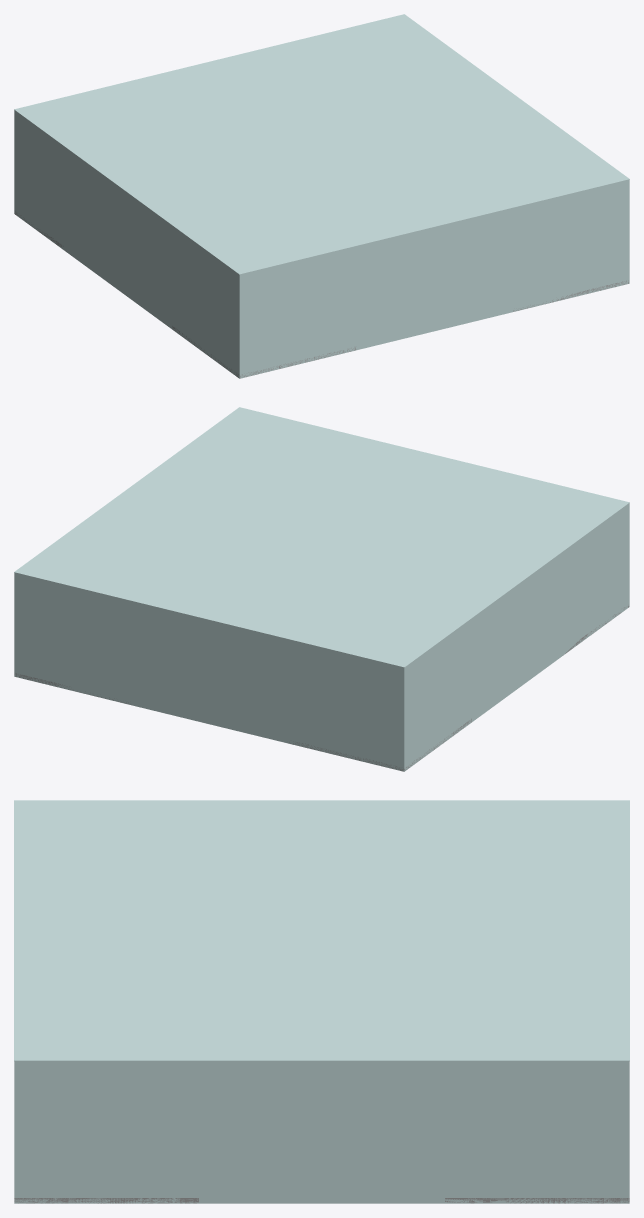
File: Mess Hall Final.fbx
3 renders of one model, top to bottom at view 1: azimuth 30°, elevation 25°; view 2: azimuth 150°, elevation 25°; view 3: azimuth 270°, elevation 25°, orthographic. The views are drawn at different scales.
Parts seen in each view (by area): view 1: pCube1, pPlane1; view 2: pCube1, pPlane1; view 3: pCube1, pPlane1.
Part boxes in pixels (x1=…): pCube1: x1=14, y1=14, x2=629, y2=274; pPlane1: x1=14, y1=110, x2=629, y2=378; pCube1: x1=14, y1=407, x2=629, y2=667; pPlane1: x1=14, y1=503, x2=629, y2=771; pCube1: x1=14, y1=800, x2=629, y2=1061; pPlane1: x1=14, y1=1061, x2=629, y2=1203.
Bounding box in the file's own units: 19.05 × 4.88 × 19.05.
